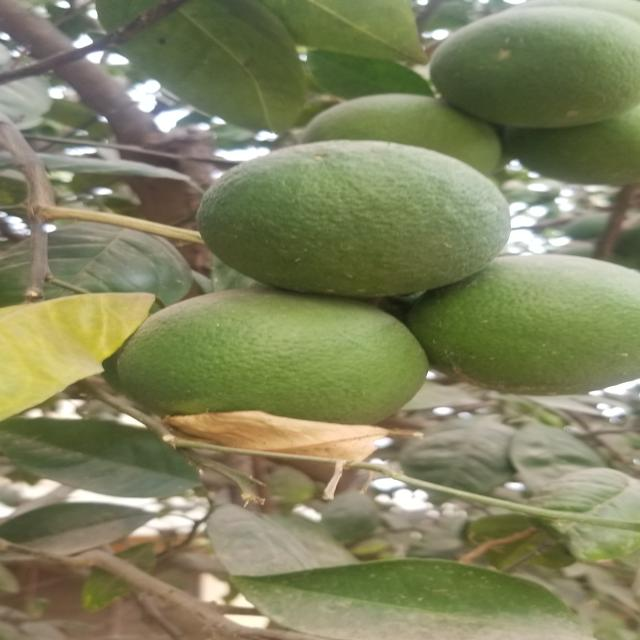Unripe: (105, 283, 438, 465), (183, 136, 529, 305), (408, 254, 640, 408), (421, 5, 640, 133)
